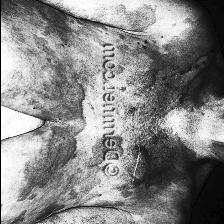Toxin: (134, 64, 160, 90)
